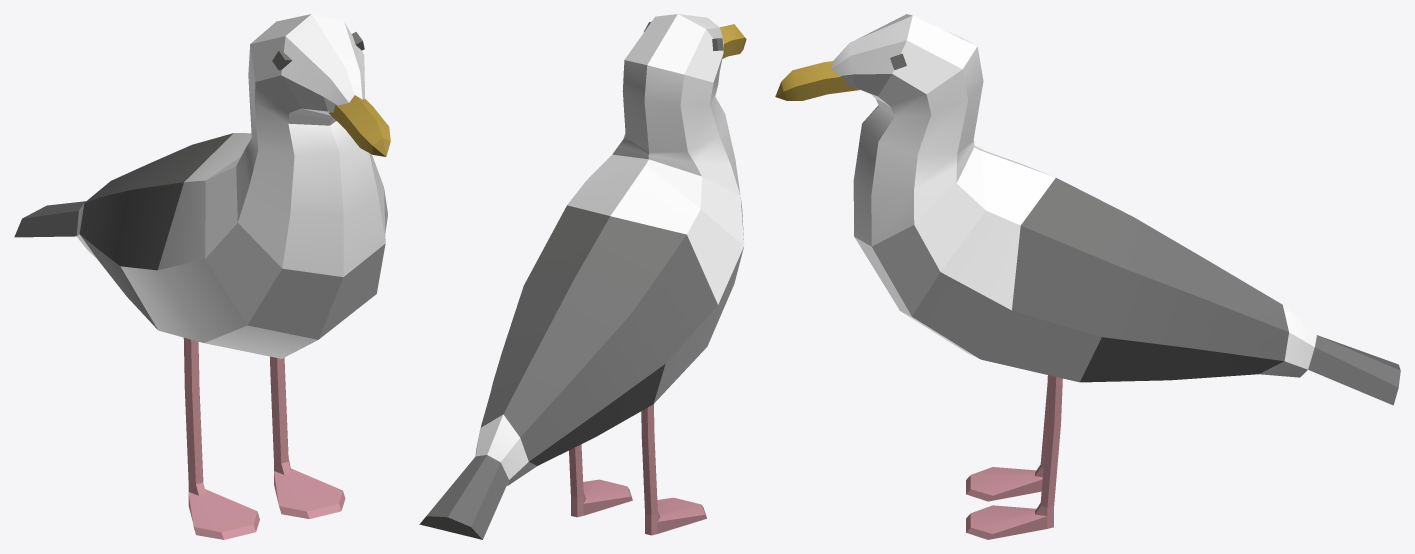
Rendered from 0WRzrtCIIRp.glb.
The picture shows the model from 3 angles, left to right: view 1: azimuth 30°, elevation 25°; view 2: azimuth 150°, elevation 25°; view 3: azimuth 270°, elevation 25°; orthographic projection. The views are drawn at different scales.
Visible parts, largest first — view 1: Geo_Seagull; view 2: Geo_Seagull; view 3: Geo_Seagull.
Boxes of the visible parts, x1=… form: Geo_Seagull: x1=14, y1=14, x2=390, y2=539; Geo_Seagull: x1=419, y1=14, x2=746, y2=539; Geo_Seagull: x1=775, y1=14, x2=1400, y2=539.
Size of the model in its own units: 0.3936 by 1 by 1.16.
Materials: 1 (1 with a texture image).
